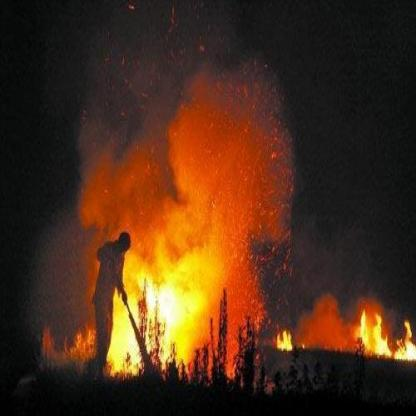fire: (116, 236, 240, 372), (272, 299, 414, 360)
smoke: (92, 113, 297, 273)
